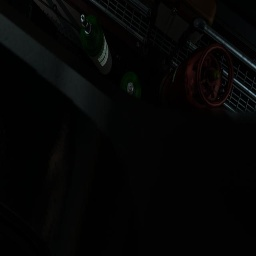0: (80, 14, 112, 75), (120, 72, 141, 99)
NitrogenTank ,: (159, 42, 234, 113)
